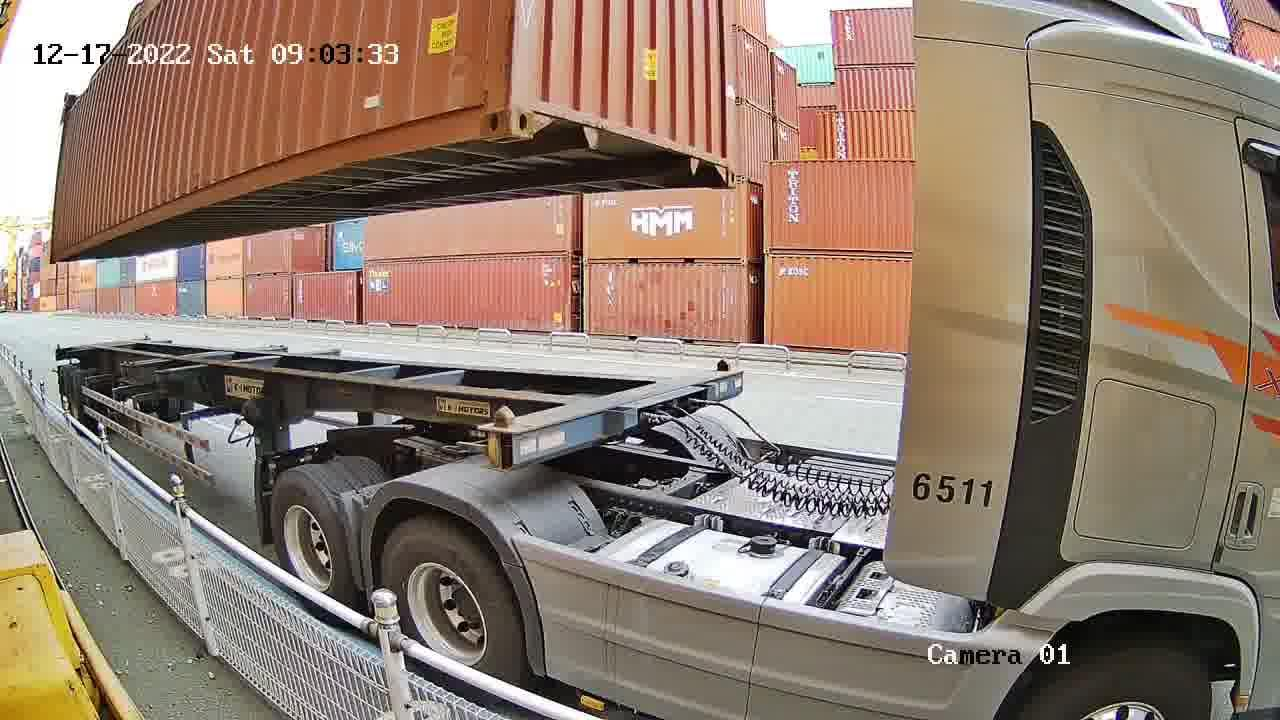Chassis: (514, 366, 745, 471)
Cone: (479, 430, 515, 470)
Container: (511, 81, 738, 188)
Hole_L: (513, 80, 551, 136)
Hole_R: (458, 79, 513, 140), (710, 140, 737, 185)
Tire: (372, 527, 525, 681), (273, 474, 349, 600)
